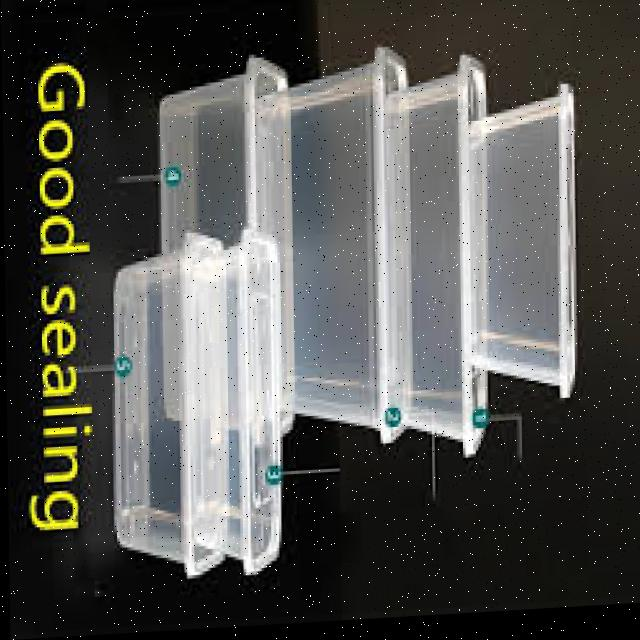disposable: (250, 25, 424, 466), (148, 45, 299, 469), (455, 63, 609, 421), (387, 39, 505, 455), (112, 246, 238, 580), (183, 241, 286, 586)
